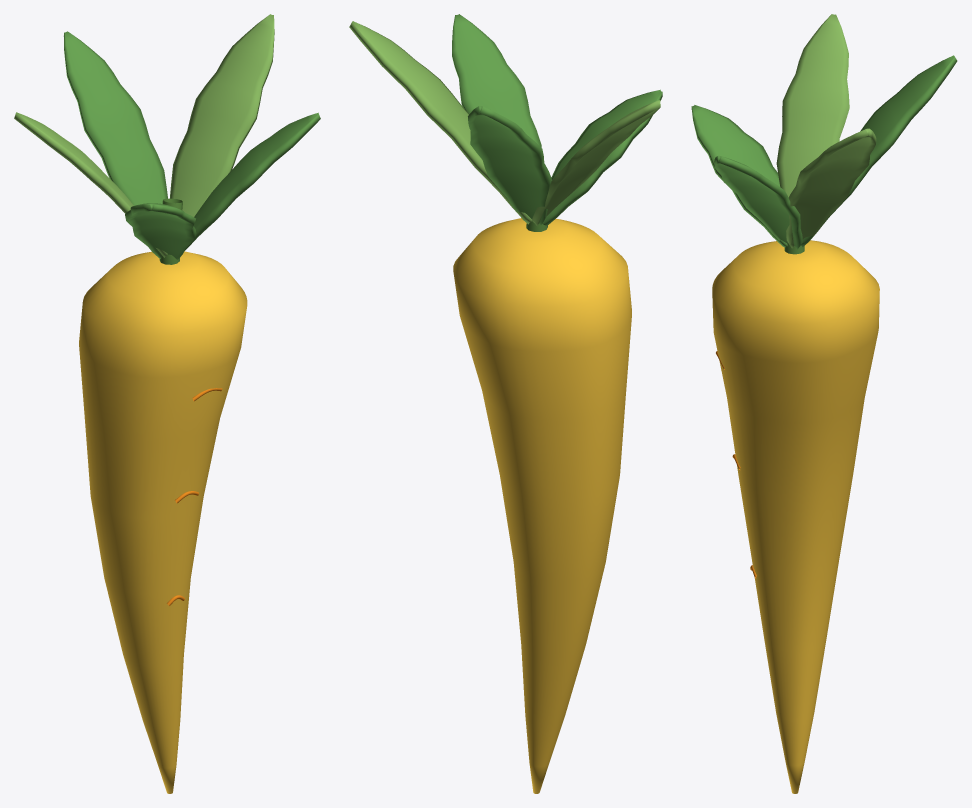
The model's file is golden_carrot.glb.
The picture shows the model from 3 angles, left to right: view 1: azimuth 30°, elevation 25°; view 2: azimuth 150°, elevation 25°; view 3: azimuth 270°, elevation 25°; orthographic projection. The views are drawn at different scales.
Parts seen in each view (by area): view 1: Golden carrot | long softly tapered root | export, Golden carrot | carrot crown leaf 1 | export, Golden carrot | carrot crown leaf 2 | export, Golden carrot | carrot crown leaf 0 | export, Golden carrot | carrot crown leaf 4 | export, Golden carrot | carrot crown leaf 3 | export; view 2: Golden carrot | long softly tapered root | export, Golden carrot | carrot crown leaf 2 | export, Golden carrot | carrot crown leaf 0 | export, Golden carrot | carrot crown leaf 1 | export, Golden carrot | carrot crown leaf 3 | export, Golden carrot | carrot crown leaf 4 | export; view 3: Golden carrot | long softly tapered root | export, Golden carrot | carrot crown leaf 3 | export, Golden carrot | carrot crown leaf 1 | export, Golden carrot | carrot crown leaf 2 | export, Golden carrot | carrot crown leaf 0 | export, Golden carrot | carrot crown leaf 4 | export.
Part boxes in pixels (box(x1,y1,x2,y2)): Golden carrot | long softly tapered root | export: box(79, 251, 247, 793); Golden carrot | carrot crown leaf 1 | export: box(170, 14, 274, 216); Golden carrot | carrot crown leaf 2 | export: box(63, 31, 167, 205); Golden carrot | carrot crown leaf 0 | export: box(184, 112, 320, 250); Golden carrot | carrot crown leaf 4 | export: box(125, 203, 196, 259); Golden carrot | carrot crown leaf 3 | export: box(14, 112, 167, 257); Golden carrot | long softly tapered root | export: box(453, 218, 631, 793); Golden carrot | carrot crown leaf 2 | export: box(468, 106, 552, 224); Golden carrot | carrot crown leaf 0 | export: box(452, 14, 541, 147); Golden carrot | carrot crown leaf 1 | export: box(349, 21, 531, 224); Golden carrot | carrot crown leaf 3 | export: box(532, 100, 660, 225); Golden carrot | carrot crown leaf 4 | export: box(542, 89, 662, 225); Golden carrot | long softly tapered root | export: box(712, 240, 879, 793); Golden carrot | carrot crown leaf 3 | export: box(776, 14, 849, 197); Golden carrot | carrot crown leaf 1 | export: box(786, 128, 876, 248); Golden carrot | carrot crown leaf 2 | export: box(801, 55, 957, 246); Golden carrot | carrot crown leaf 0 | export: box(714, 155, 802, 249); Golden carrot | carrot crown leaf 4 | export: box(691, 105, 787, 247).
Bounding box in the file's own units: 0.8467 × 2.1 × 0.6917.
